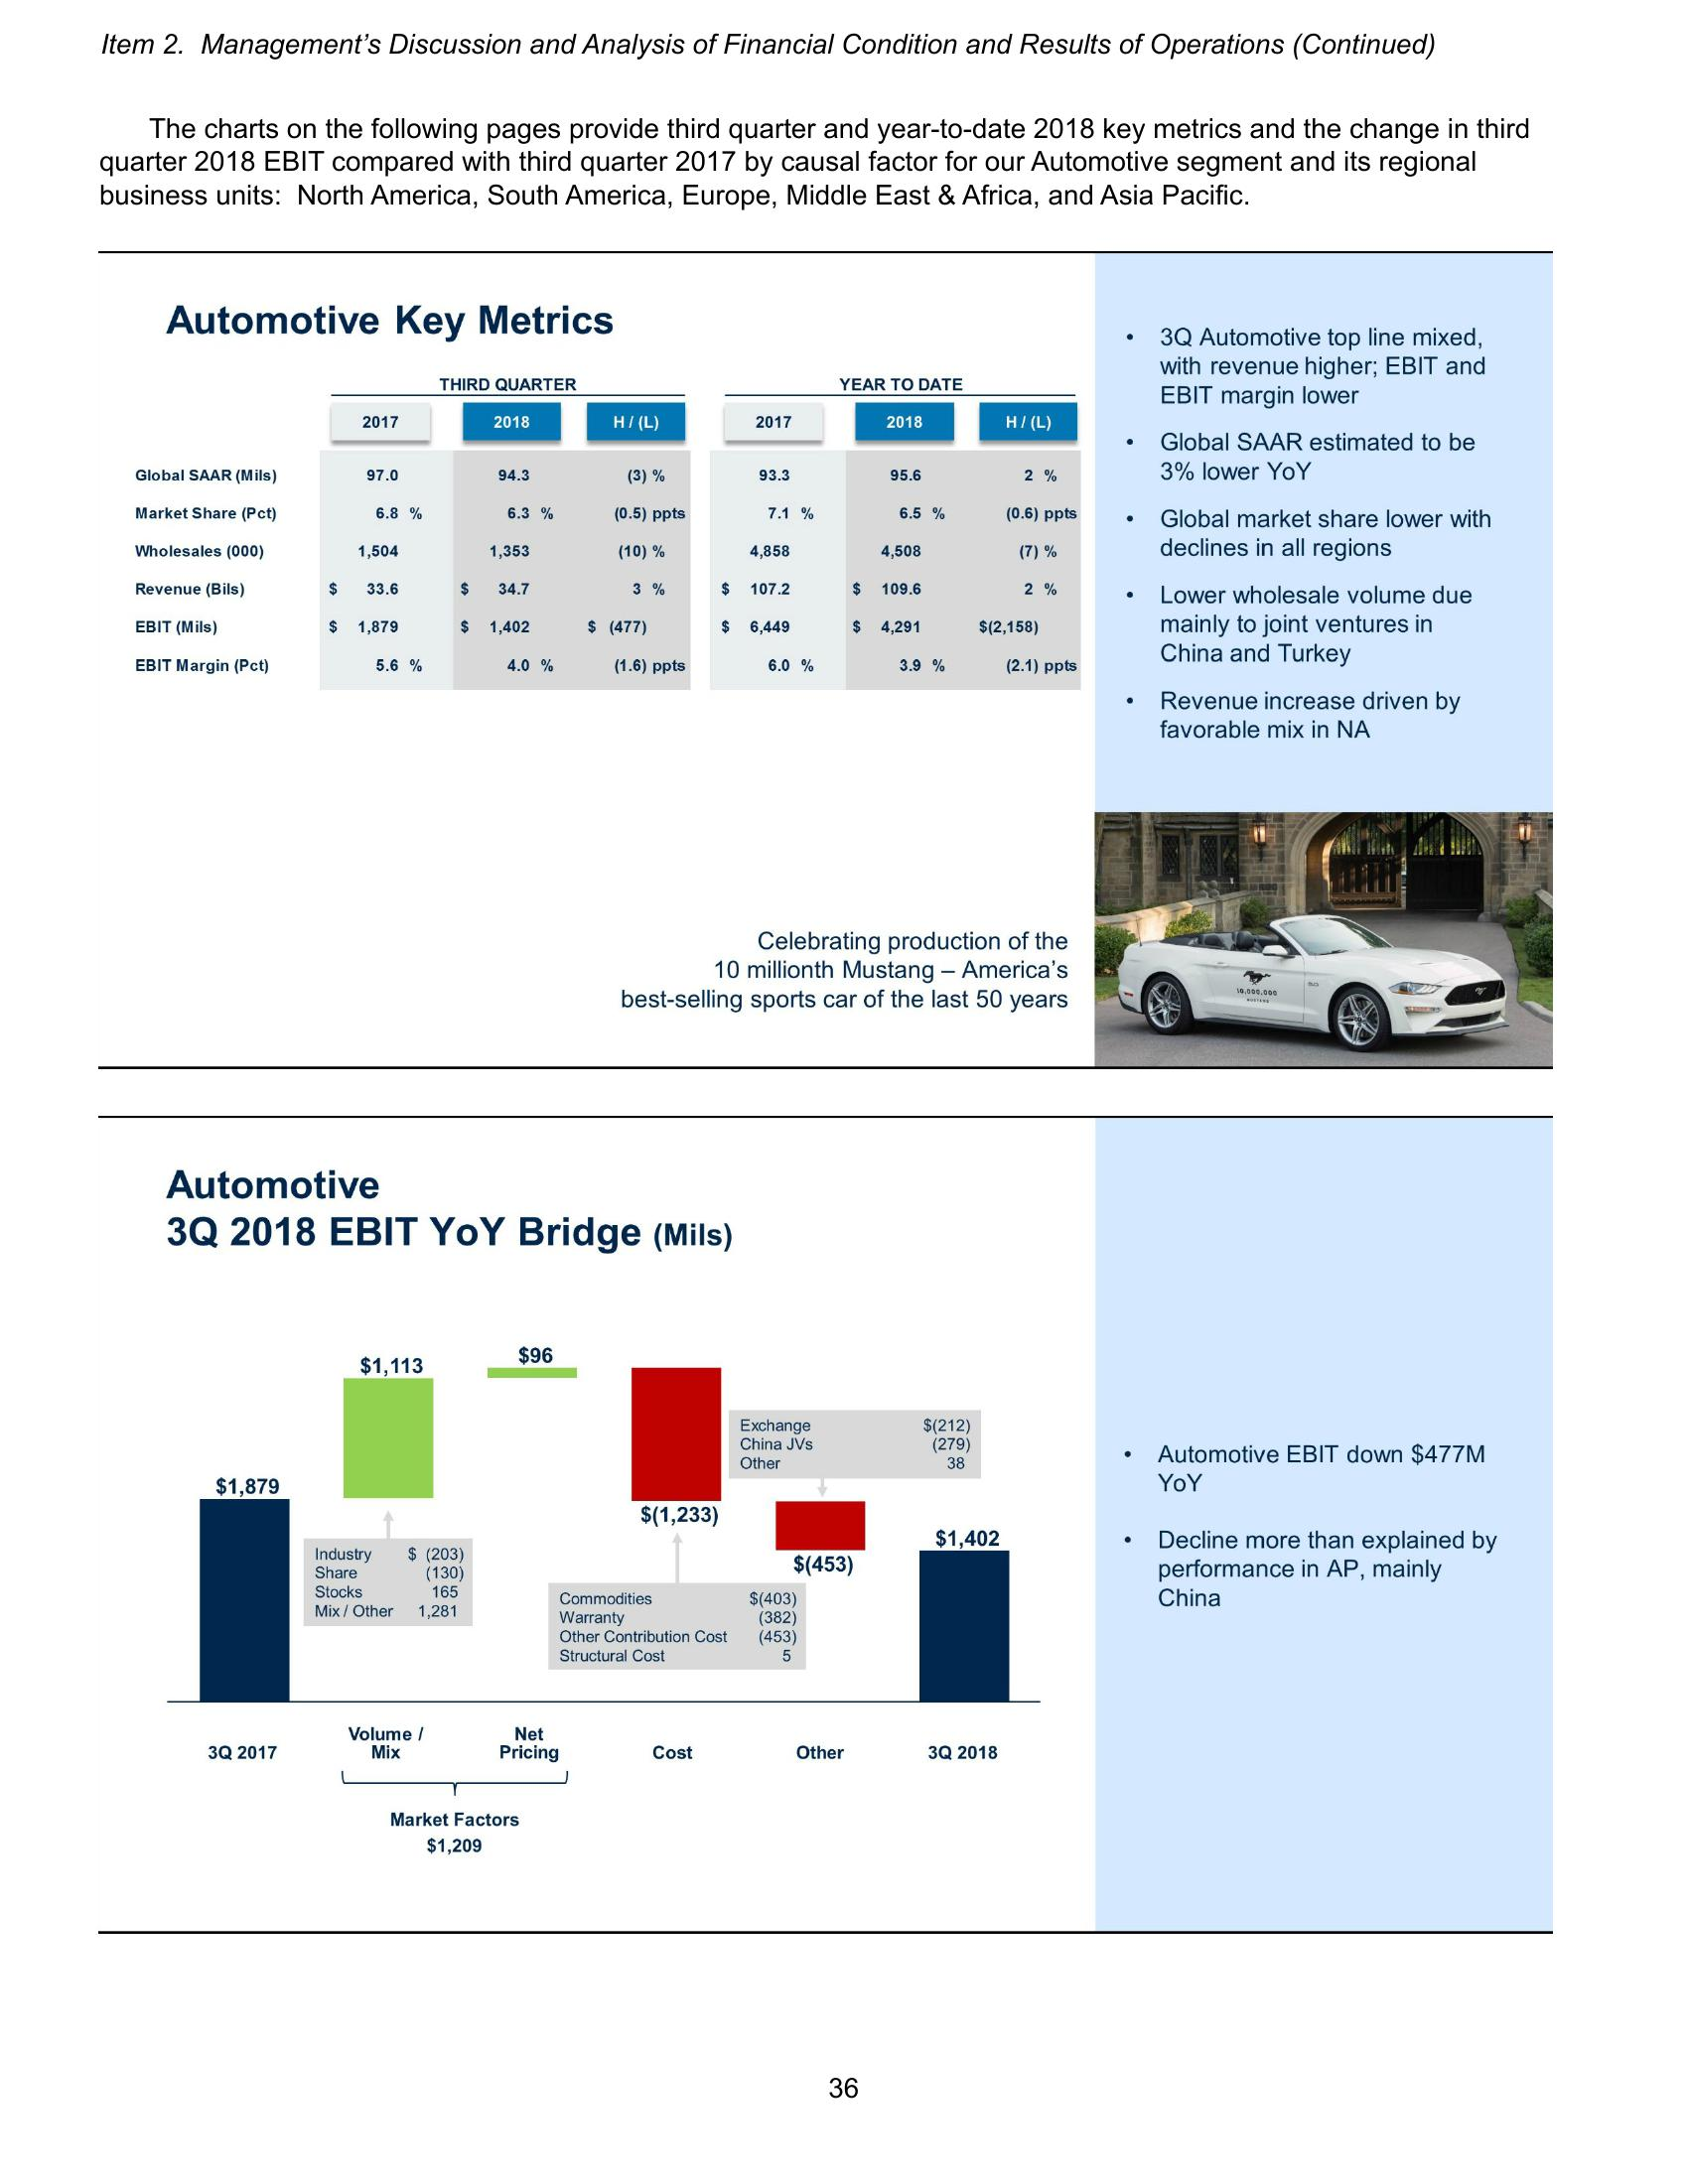table: (129, 370, 1087, 693)
